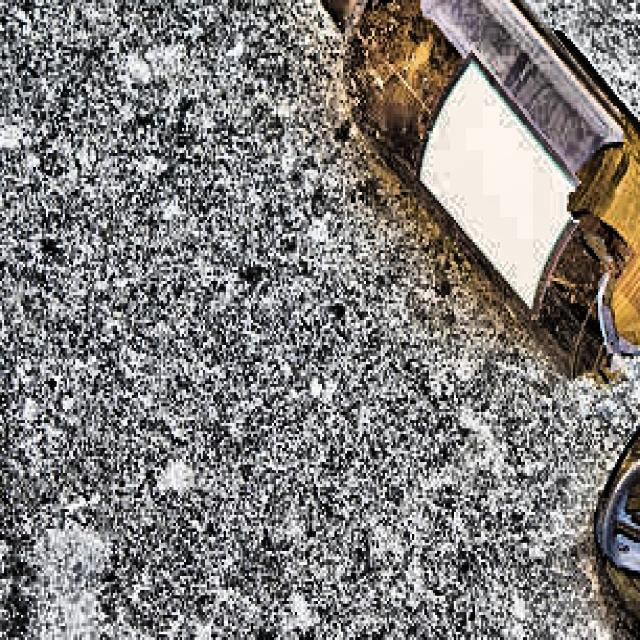glass: (238, 0, 640, 640)
